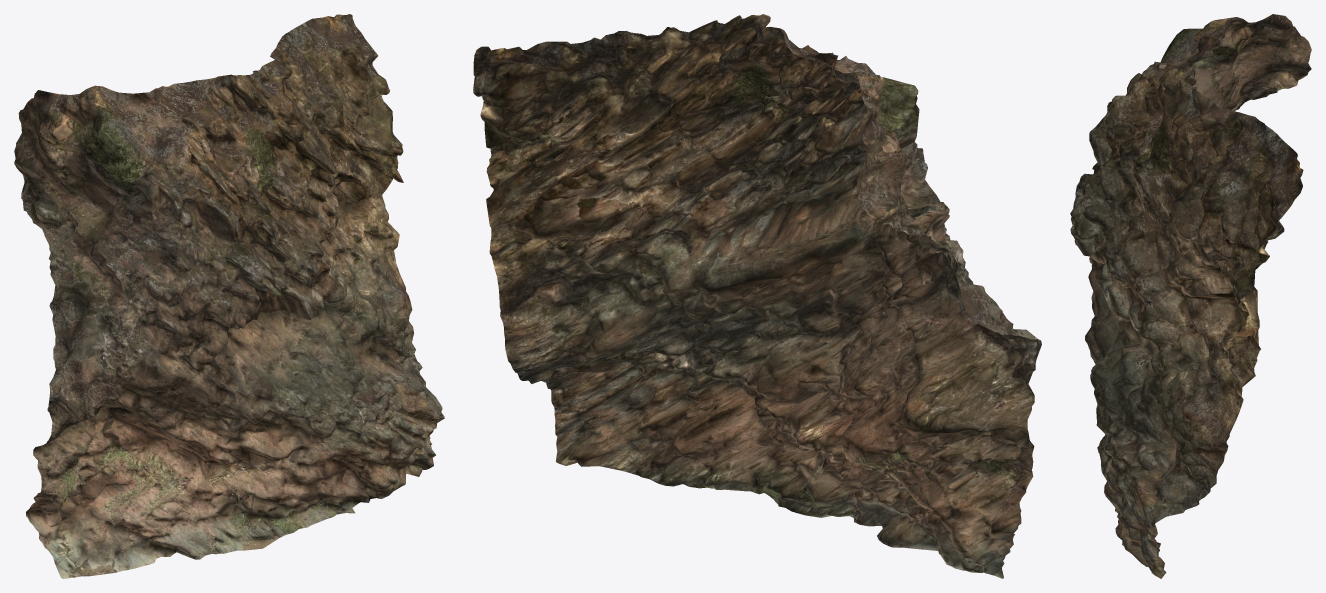
The model's file is mountainside.glb.
3 renders of one model, left to right at view 1: azimuth 30°, elevation 25°; view 2: azimuth 150°, elevation 25°; view 3: azimuth 270°, elevation 25°, orthographic. The views are drawn at different scales.
Visible parts, largest first — view 1: mountainside; view 2: mountainside; view 3: mountainside.
Boxes of the visible parts, x1,y1,x2,y2 form: mountainside: (14, 14, 444, 578); mountainside: (473, 14, 1041, 578); mountainside: (1070, 14, 1311, 578).
Bounding box in the file's own units: 10.21 × 10.52 × 5.25.
1 material, 1 textured.
